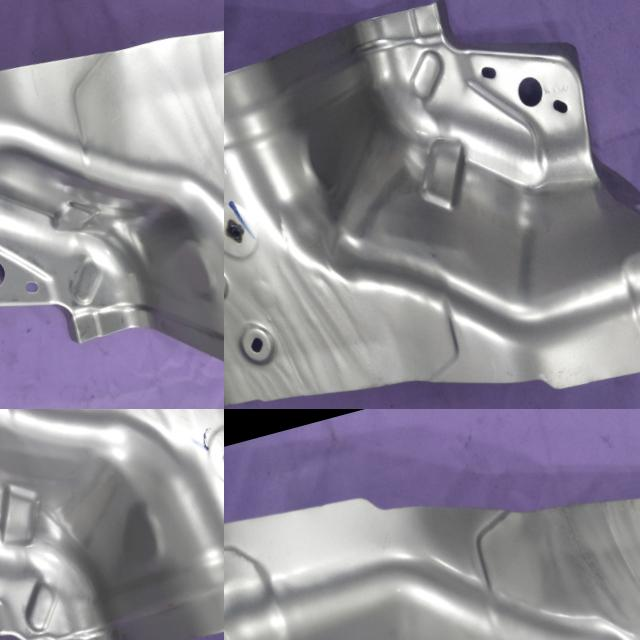Healthy: (224, 0, 640, 409), (0, 0, 224, 409), (0, 409, 224, 640)
